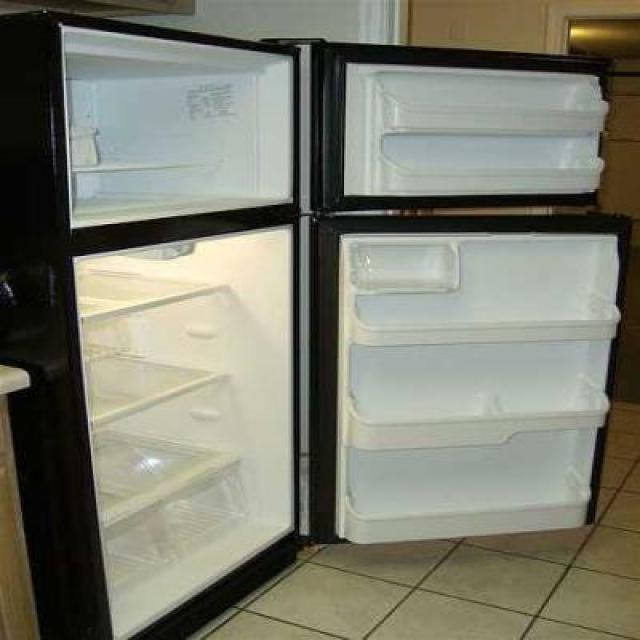refrigerator: (38, 5, 621, 612)
